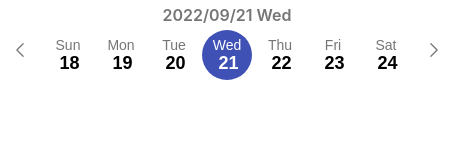
StripeDatePicker › should render StripeDatePicker with go forward one week
Click the button named "go-forward" at (434, 50), box left=414, top=30, right=454, bottom=70
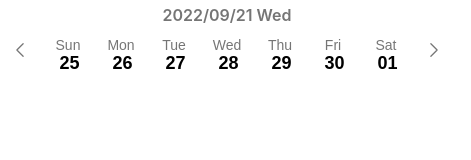
Check: the text "25" is shown, box left=60, top=52, right=80, bottom=72
Check: the text "26" is shown, box left=112, top=52, right=132, bottom=72
Check: the text "27" is shown, box left=166, top=52, right=186, bottom=72
